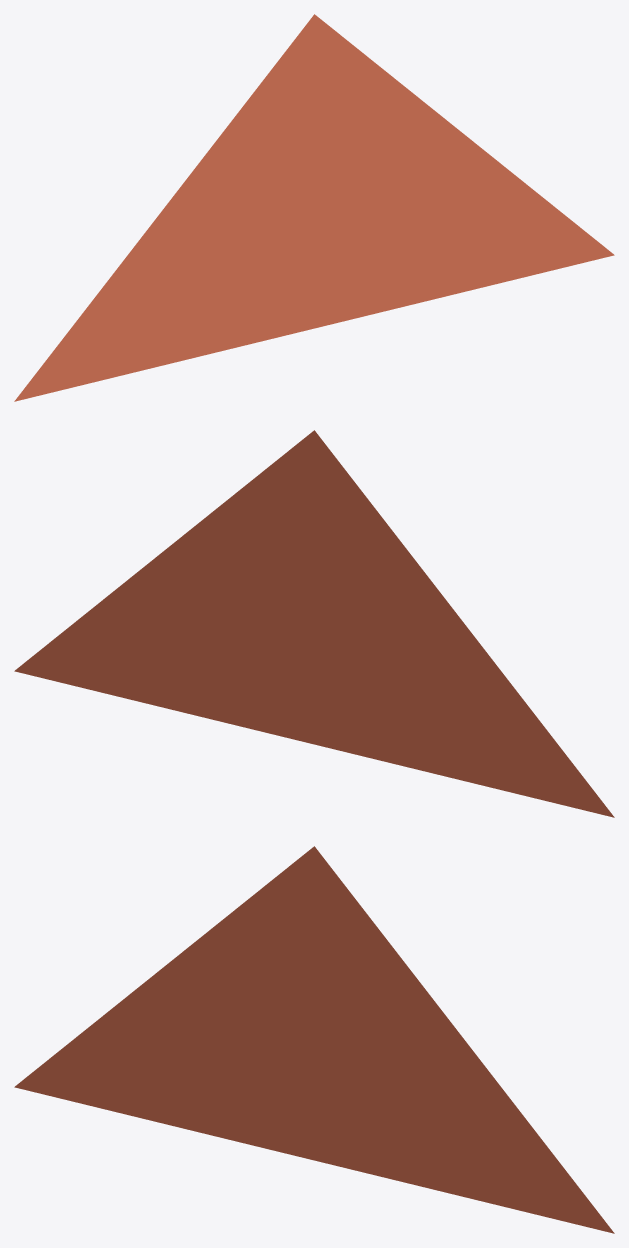
The model's file is triangle.gltf.
3 views of the same model, one above another, from view 1: azimuth 30°, elevation 25°; view 2: azimuth 150°, elevation 25°; view 3: azimuth 330°, elevation 25° (orthographic).
Parts seen in each view (by area): view 1: TriangleRoot; view 2: TriangleRoot; view 3: TriangleRoot.
Boxes of the visible parts, x1,y1,x2,y2 form: TriangleRoot: (14,14,614,401); TriangleRoot: (14,430,614,817); TriangleRoot: (14,846,614,1233).
Bounding box in the file's own units: 2 × 1 × 0.
